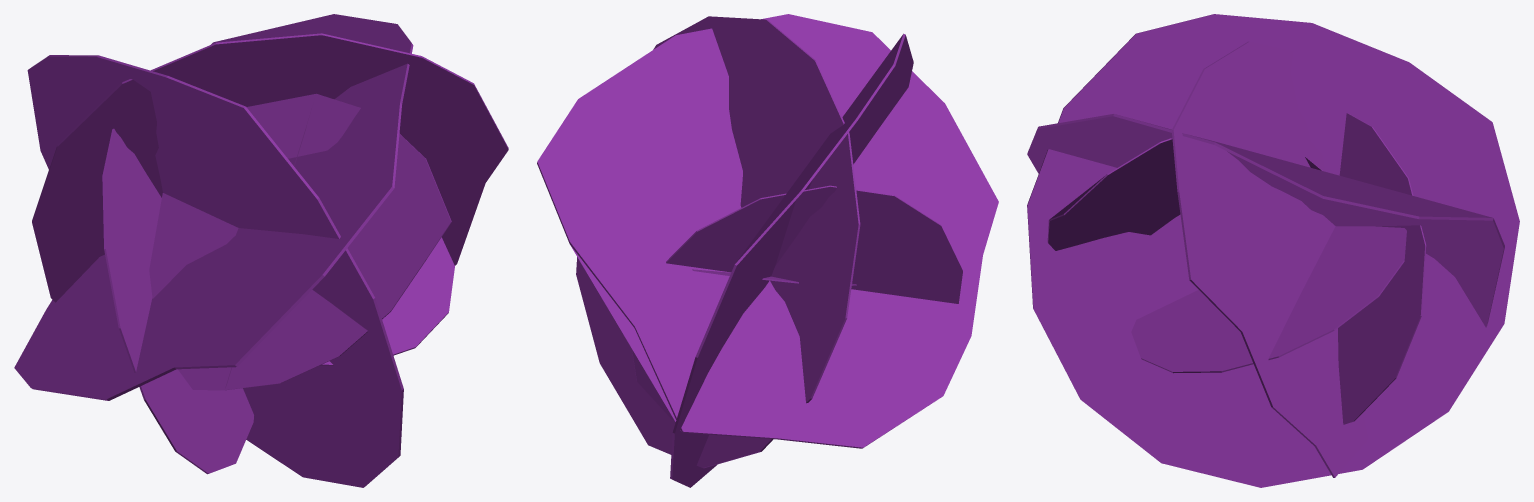
Rendered from rockPurple.fbx.
The picture shows the model from 3 angles, left to right: view 1: azimuth 30°, elevation 25°; view 2: azimuth 150°, elevation 25°; view 3: azimuth 270°, elevation 25°; orthographic projection. The views are drawn at different scales.
Parts seen in each view (by area): view 1: Circle; view 2: Circle; view 3: Circle.
Boxes of the visible parts, x1,y1,x2,y2 form: Circle: [14, 14, 508, 487]; Circle: [537, 14, 998, 487]; Circle: [1027, 14, 1519, 487].
Size of the model in its own units: 10.32 by 10.78 by 11.65.
